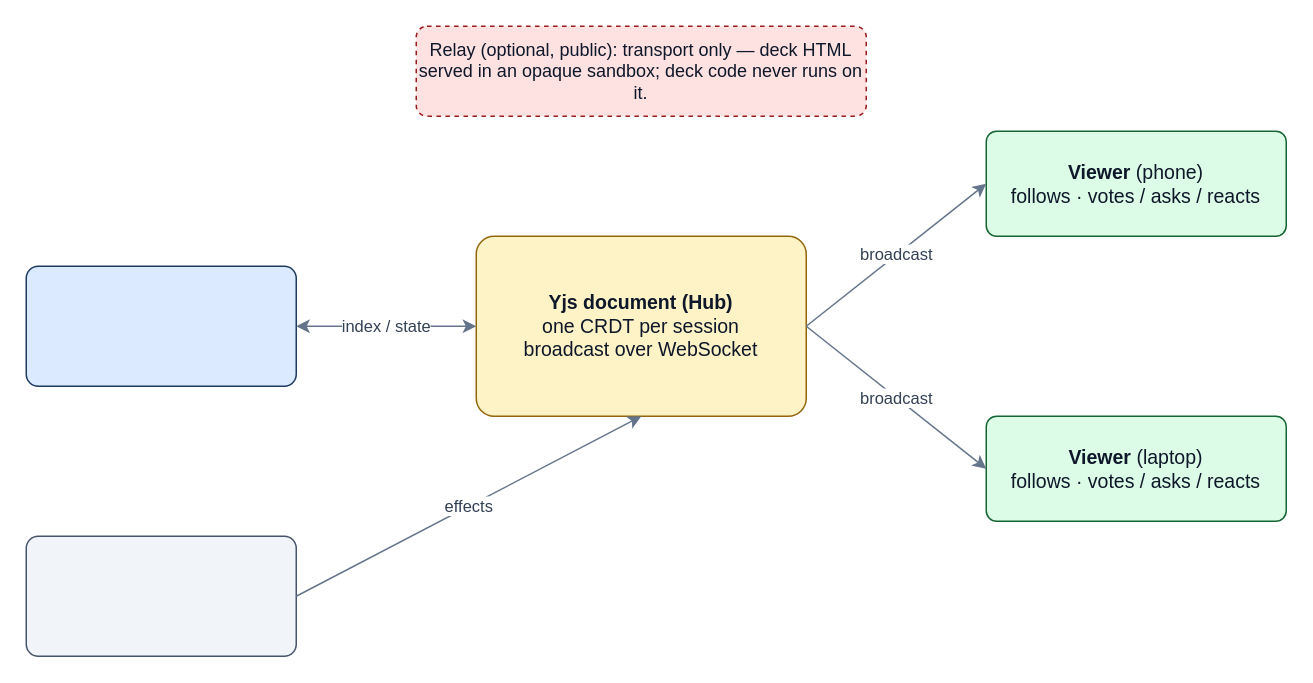
The diagram is 1313 pixels wide and 683 high, and some of its shapes have lost their labels. Here are the shapes that lost their labels. From the top down, the centre of each, then its label:
At point 160,325: "Presenter writes slide index + plugin state".
At point 160,595: "Local runner server plugins run here (never on the relay)".
